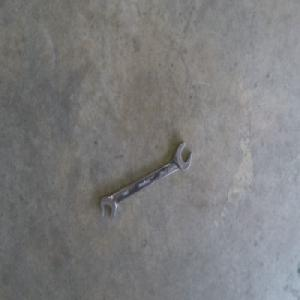Wrench: (100, 141, 192, 221)
